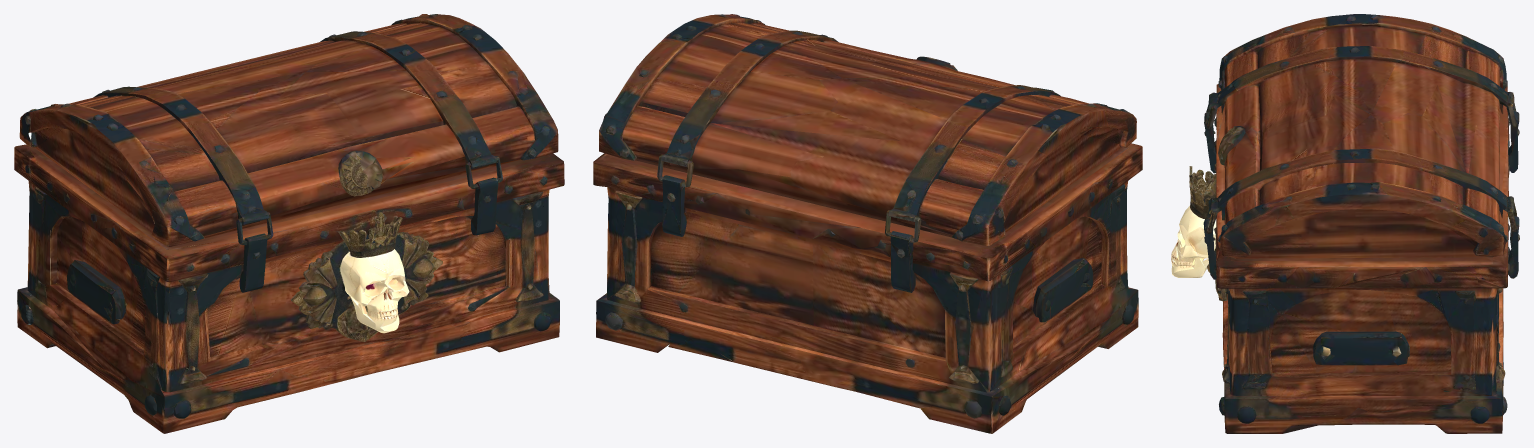
Rendered from baule.glb.
3 renders of one model, left to right at view 1: azimuth 30°, elevation 25°; view 2: azimuth 150°, elevation 25°; view 3: azimuth 270°, elevation 25°, orthographic. The views are drawn at different scales.
Parts seen in each view (by area): view 1: body, lid; view 2: body, lid; view 3: lid, body.
Boxes of the visible parts, x1=… form: body: x1=14, y1=144, x2=564, y2=433; lid: x1=19, y1=14, x2=558, y2=246; body: x1=593, y1=143, x2=1142, y2=433; lid: x1=599, y1=14, x2=1136, y2=246; lid: x1=1189, y1=14, x2=1519, y2=258; body: x1=1171, y1=84, x2=1519, y2=433.
Size of the model in its own units: 1.1 by 0.6664 by 0.8658.
1 material, 1 textured.
